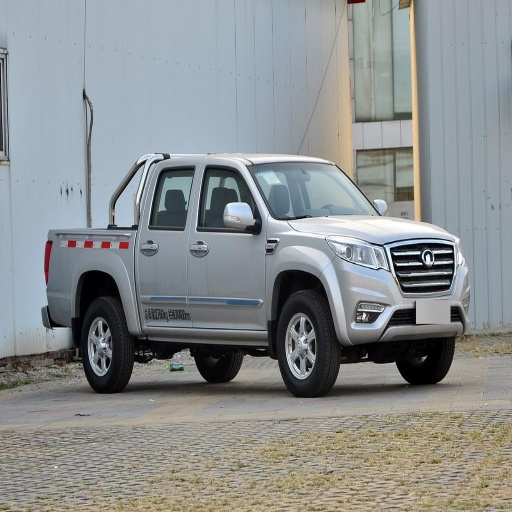front_bumper: (326, 239, 475, 344)
front_right_door: (187, 163, 265, 327)
front_right_light: (331, 238, 386, 269)
trunk: (26, 230, 139, 331)
